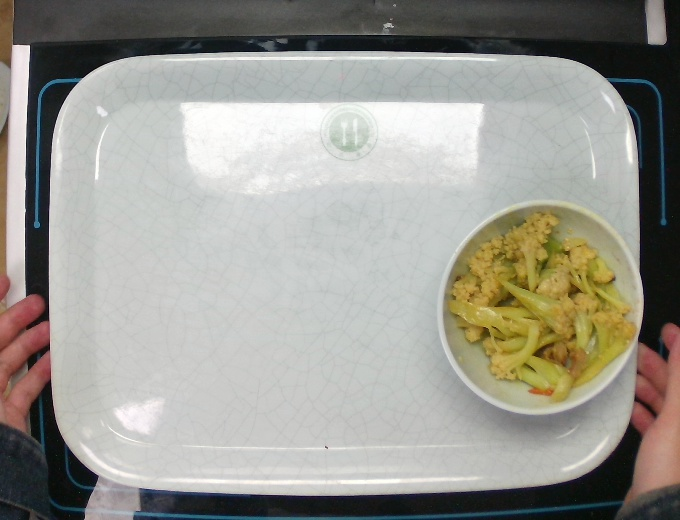JYsf-Fan_Wan: (433, 196, 654, 423)
